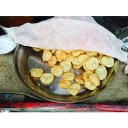poori: (84, 55, 99, 70), (88, 72, 102, 86), (101, 54, 115, 67), (49, 64, 64, 76), (40, 50, 53, 61), (60, 61, 71, 71), (71, 82, 79, 95), (41, 74, 52, 83)
